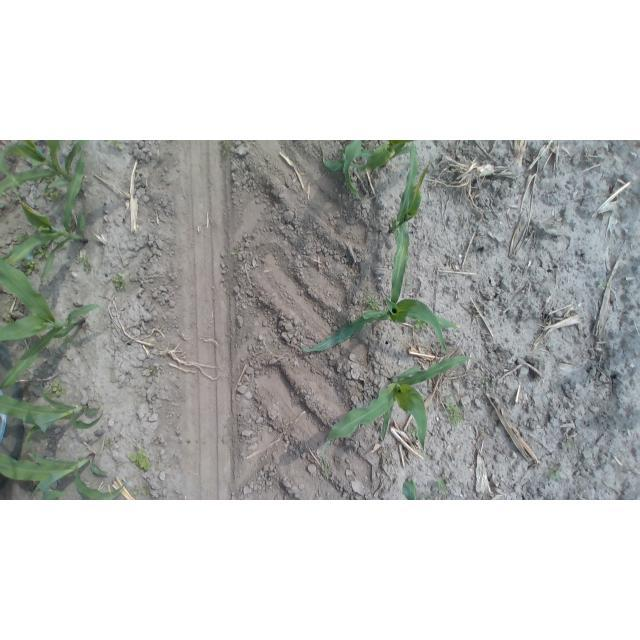Maize: (322, 355, 479, 481), (0, 255, 102, 382), (1, 152, 90, 281), (299, 293, 461, 355), (383, 142, 433, 311), (0, 383, 106, 447), (317, 140, 423, 202), (0, 451, 128, 500), (0, 141, 86, 199), (398, 479, 434, 500)
Weeds: (443, 398, 466, 427), (128, 449, 152, 472), (40, 183, 60, 202), (21, 259, 42, 276), (49, 381, 67, 399), (78, 257, 94, 275), (112, 274, 127, 293), (132, 486, 153, 499), (32, 245, 51, 259), (435, 477, 448, 497), (219, 140, 233, 156), (107, 140, 126, 150), (547, 468, 561, 481), (147, 365, 162, 376), (415, 321, 430, 332), (366, 296, 379, 308), (409, 426, 420, 438), (564, 436, 574, 449), (599, 283, 613, 291), (15, 232, 28, 240), (104, 438, 113, 448), (483, 379, 490, 388)
